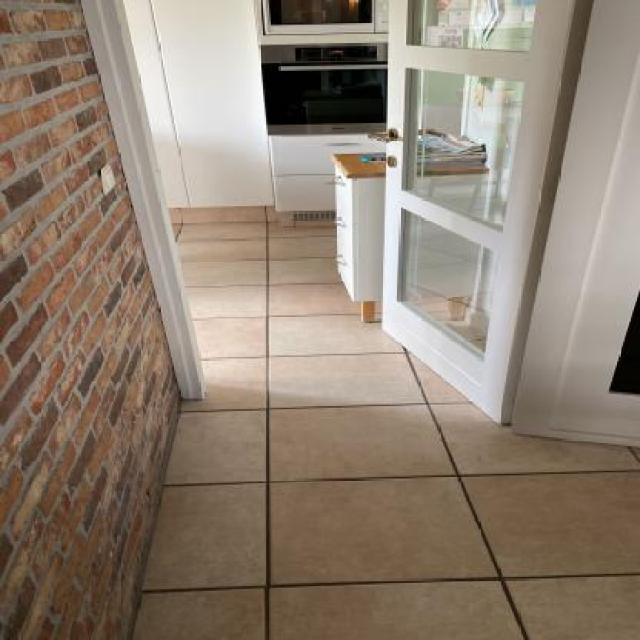Floor: (130, 221, 640, 640)
